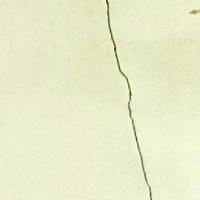crack: (91, 0, 158, 199)
